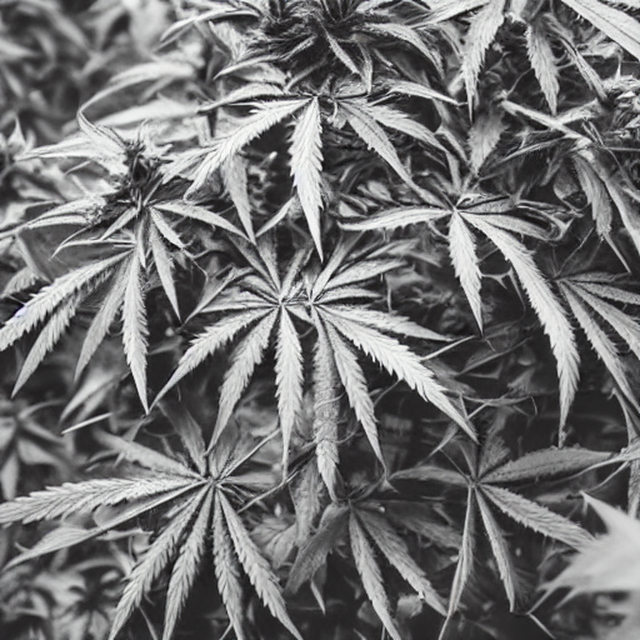Marijuana Plant: (0, 0, 639, 639), (0, 354, 524, 640), (389, 166, 640, 474), (372, 0, 567, 272), (182, 115, 320, 445), (85, 0, 264, 181), (54, 171, 169, 403)
